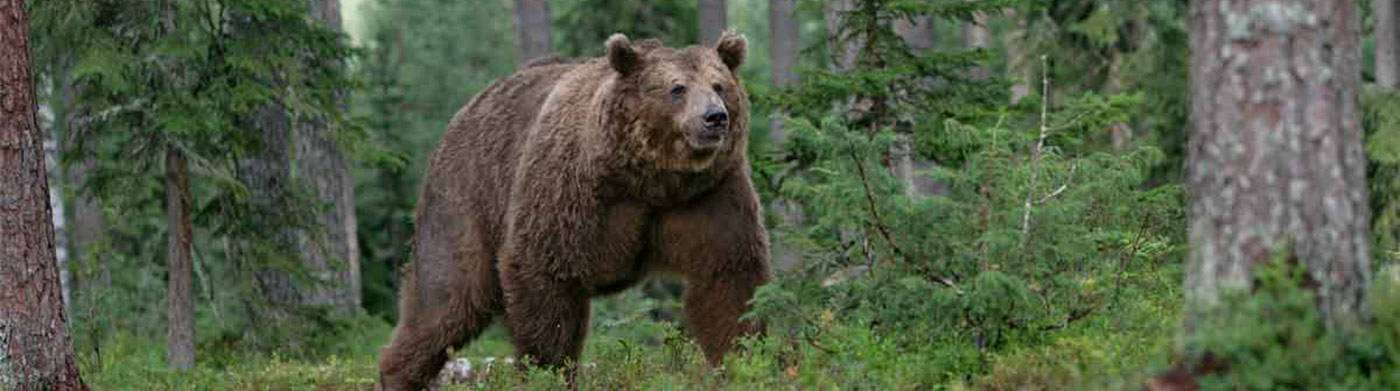bear: (594, 26, 758, 176)
